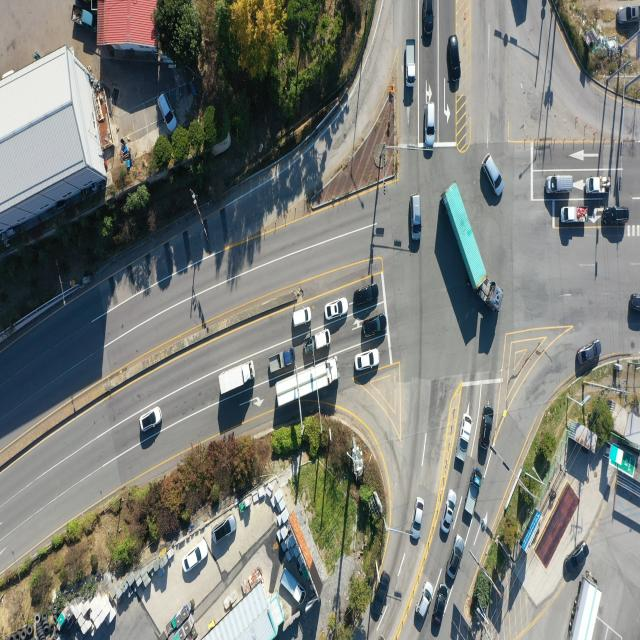car: (180, 540, 209, 582), (563, 542, 592, 583), (159, 92, 180, 138), (484, 154, 504, 197), (598, 205, 630, 231), (372, 572, 390, 618), (448, 534, 466, 579), (443, 491, 459, 534), (448, 35, 462, 84), (213, 518, 236, 547), (578, 340, 602, 367), (352, 282, 379, 306), (417, 580, 434, 618), (411, 498, 425, 544), (481, 406, 495, 452), (361, 317, 386, 341), (434, 584, 449, 623), (140, 407, 162, 433), (547, 174, 575, 194), (354, 349, 378, 372), (424, 1, 435, 49), (324, 299, 347, 321), (617, 4, 640, 25), (426, 100, 436, 146), (291, 307, 311, 328), (630, 293, 640, 312)
large_truck: (444, 181, 498, 311)
medium_truck: (273, 355, 339, 408), (566, 576, 601, 640), (216, 360, 252, 397)
small_truck: (453, 415, 472, 475), (278, 567, 305, 605), (464, 470, 482, 518), (268, 348, 296, 375), (70, 4, 96, 31), (305, 330, 331, 355), (560, 206, 588, 225), (584, 176, 610, 196), (412, 194, 423, 241), (407, 41, 418, 88)
